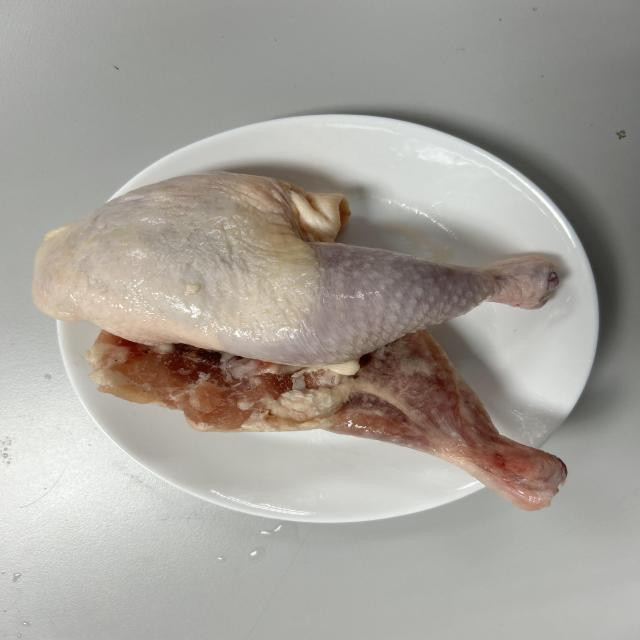quater: (39, 159, 570, 352), (89, 322, 564, 530)
